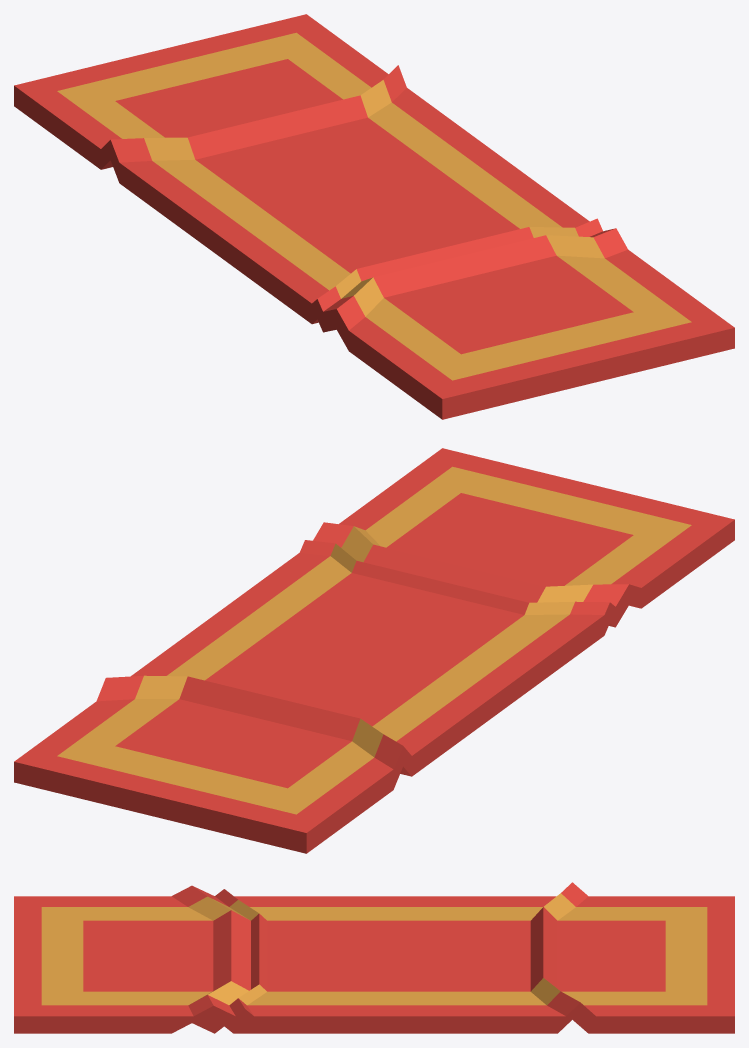
Rendered from Carpet.glb.
The picture shows the model from 3 angles, top to bottom: view 1: azimuth 30°, elevation 25°; view 2: azimuth 150°, elevation 25°; view 3: azimuth 270°, elevation 25°; orthographic projection. The views are drawn at different scales.
Visible parts, largest first — view 1: Carpet; view 2: Carpet; view 3: Carpet.
Part boxes in pixels (x1,y1,x2,y2): Carpet: [14, 14, 734, 419]; Carpet: [14, 448, 734, 853]; Carpet: [14, 882, 734, 1033].
Size of the model in its own units: 2.11 by 0.2577 by 5.35.
